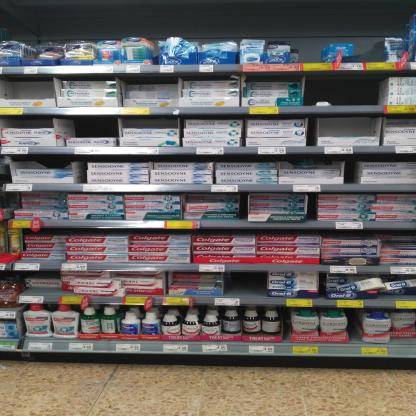Void: (317, 80, 383, 104), (318, 117, 379, 135), (131, 80, 180, 99), (226, 274, 266, 296), (7, 79, 52, 97), (21, 154, 73, 169), (358, 42, 386, 61), (22, 285, 66, 296), (81, 121, 115, 135), (126, 119, 177, 128), (300, 43, 318, 61), (347, 161, 359, 184)
